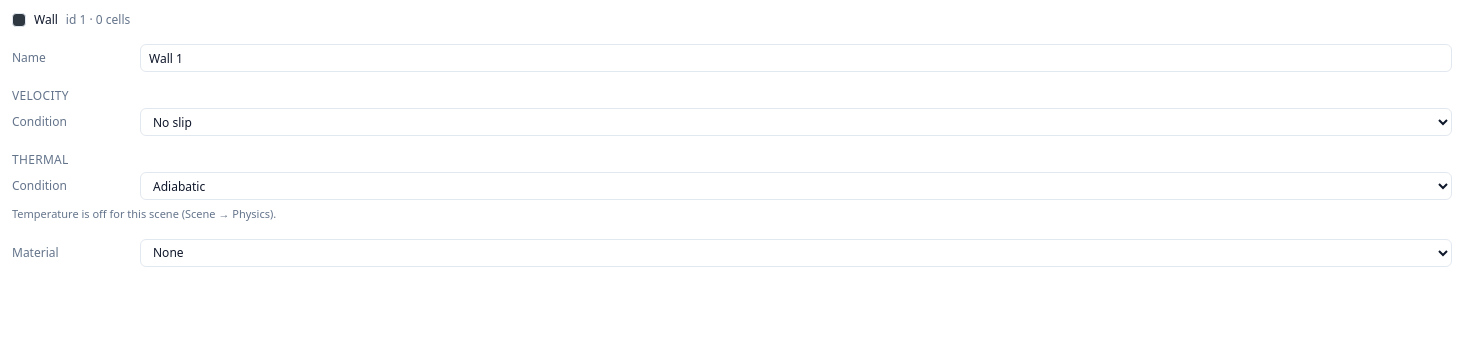
it: ElementPanel › switches the thermal form with the condition type
Select "Convective" in the dropdown with test id "element-thermal". click: {"x": 796, "y": 186}
box: [140,172,1452,200]
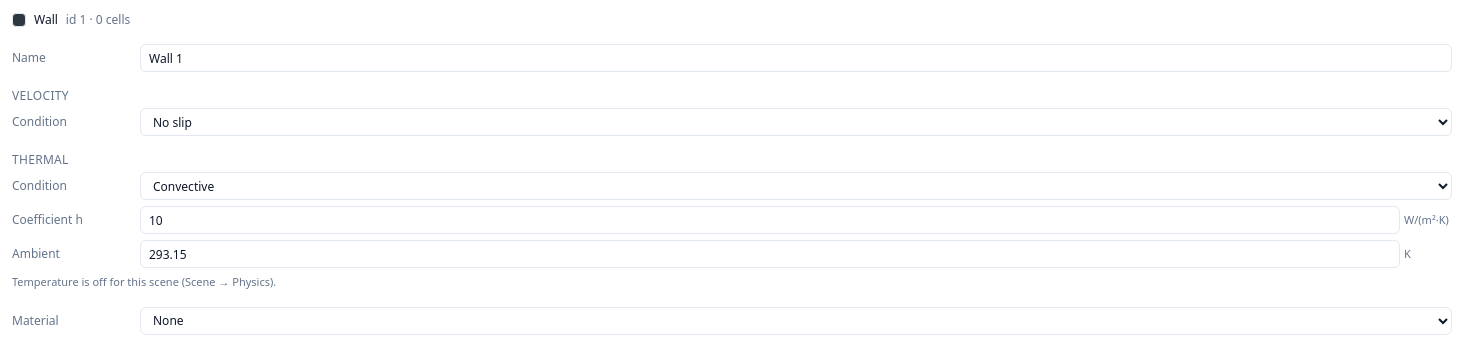
Expected: the text "Coefficient h" is shown, [12,211,83,228]
